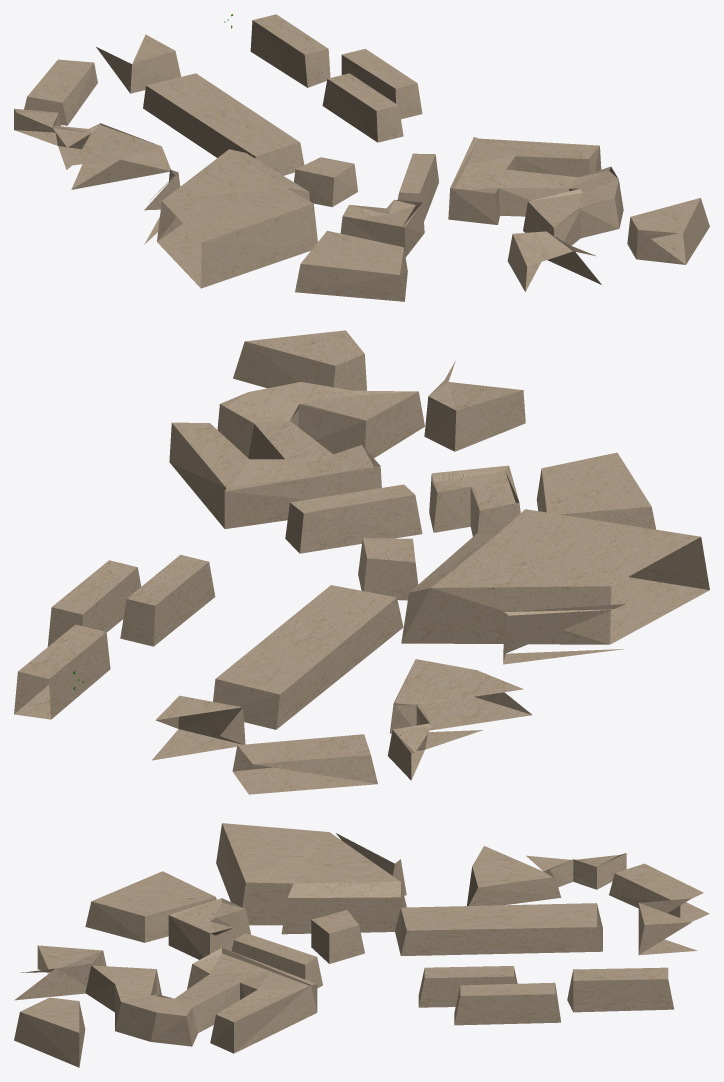
Rendered from tile_1_-1.gltf.
3 renders of one model, top to bottom at view 1: azimuth 30°, elevation 25°; view 2: azimuth 150°, elevation 25°; view 3: azimuth 270°, elevation 25°, orthographic. The views are drawn at different scales.
Visible parts, largest first — view 1: Plane.011@tile_1_-1; view 2: Plane.011@tile_1_-1; view 3: Plane.011@tile_1_-1.
Boxes of the visible parts, box(x1,y1,x2,y2) form: Plane.011@tile_1_-1: box(14, 14, 709, 301); Plane.011@tile_1_-1: box(14, 330, 709, 794); Plane.011@tile_1_-1: box(14, 823, 709, 1067).
Bounding box in the file's own units: 75.39 × 7.31 × 105.
2 materials, 1 textured.
